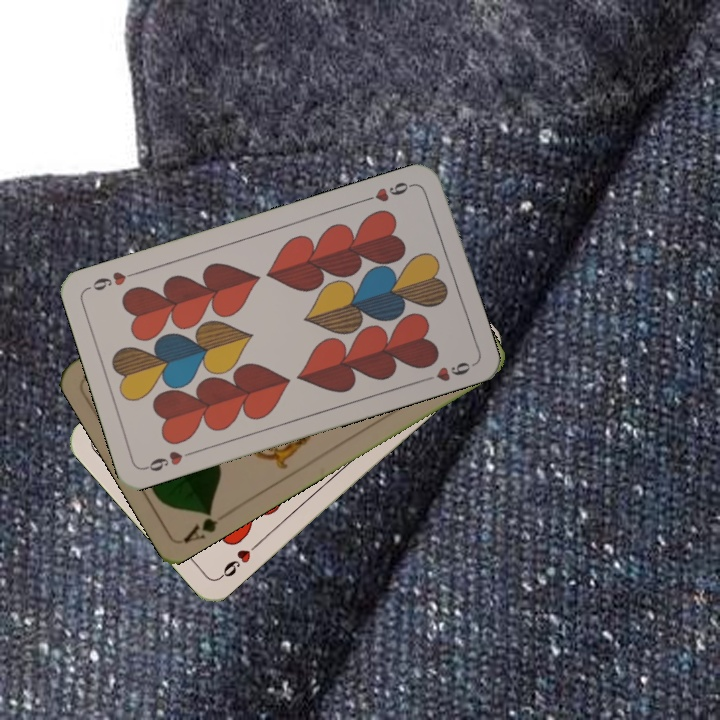GA: (179, 503, 221, 546)
H9: (215, 537, 263, 582), (360, 177, 418, 205), (141, 446, 198, 474)
